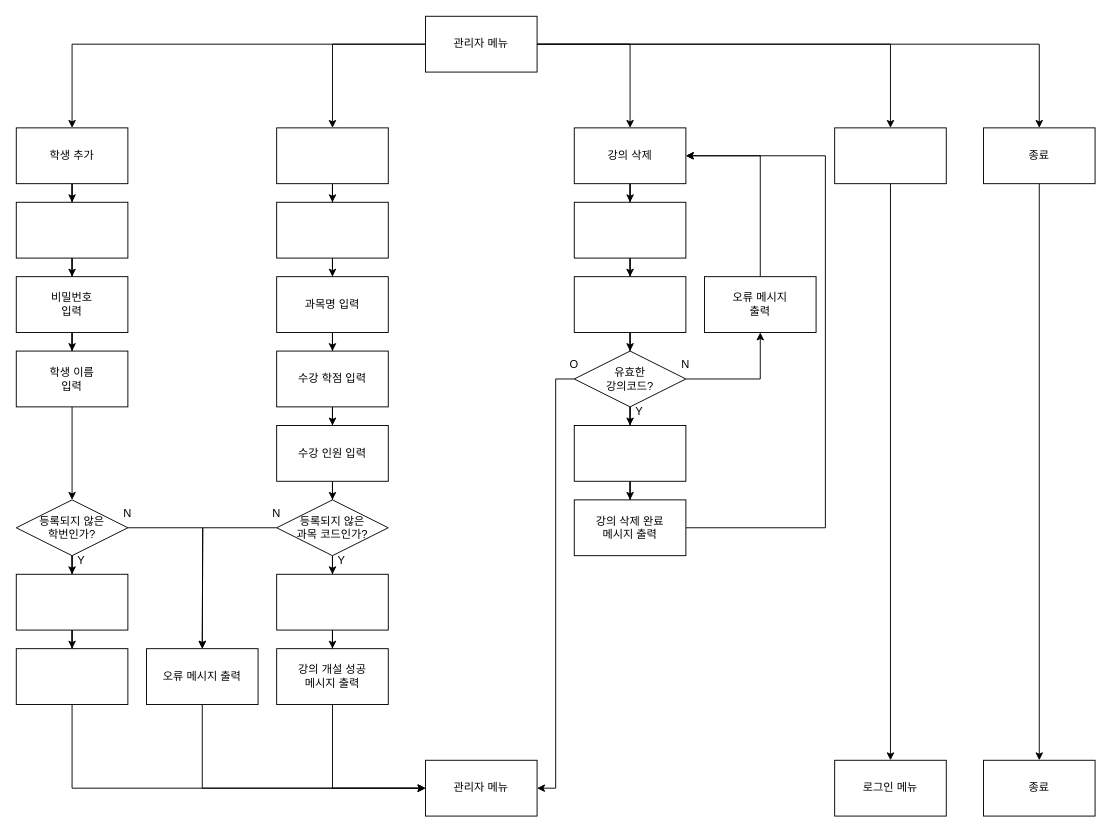
Some shapes in this 1111 by 832 pixel diagram are drawn without their labels. Each missing label, with the centre of its shape:
강의 개설: (332,155)
강의 삭제 및 수강학생 수강 정보 수정: (629,453)
강의 정보 생성 및 저장: (332,601)
강의 코드 입력: (629,304)
과목코드 입력: (332,229)
로그아웃: (890,155)
수강중인 강의 출력: (629,229)
학번 입력: (71,229)
학생 등록 성공 메시지 출력: (71,676)
학생 정보 생성 및 저장: (71,601)
